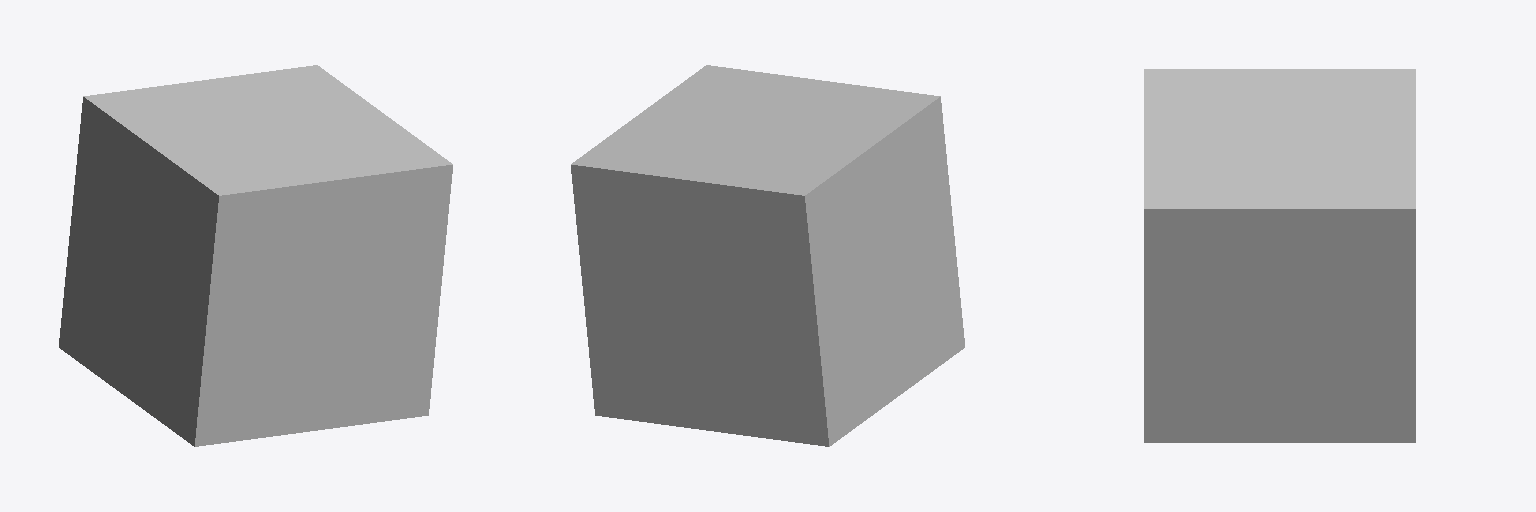
Rendered from room.obj.
3 views of the same model, side by side, from view 1: azimuth 30°, elevation 25°; view 2: azimuth 150°, elevation 25°; view 3: azimuth 270°, elevation 25° (orthographic).
Visible parts, largest first — view 1: Skybox; view 2: Skybox; view 3: Skybox.
Boxes of the visible parts, x1,y1,x2,y2 form: Skybox: [59, 65, 452, 446]; Skybox: [571, 65, 964, 446]; Skybox: [1144, 69, 1415, 442].
Size of the model in its own units: 107 by 107 by 97.46.